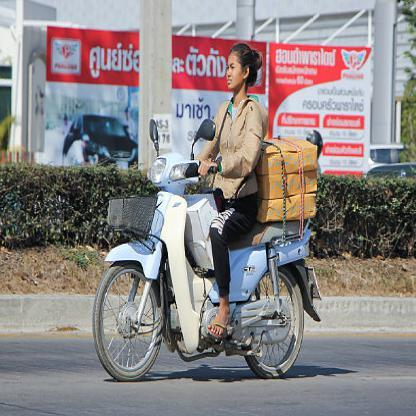Motorcycle: (86, 126, 323, 377)
